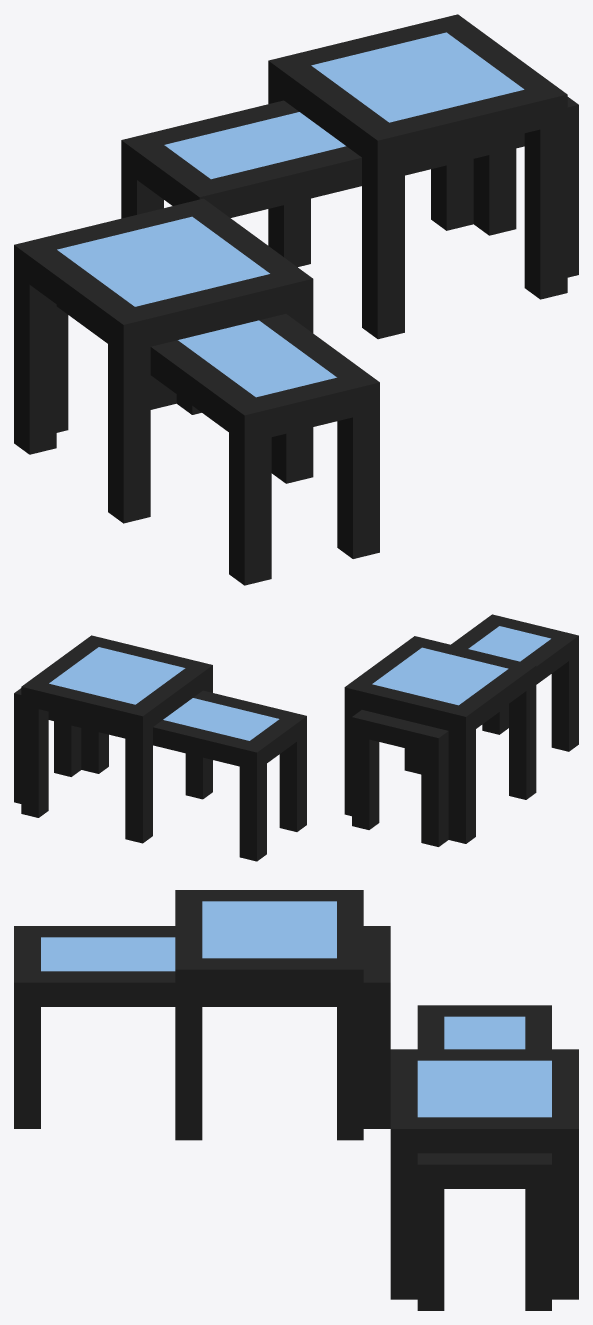
Rendered from 4er-tisch-verl-1-blaues sofa.obj.
3 views of the same model, one above another, from view 1: azimuth 30°, elevation 25°; view 2: azimuth 150°, elevation 25°; view 3: azimuth 270°, elevation 25° (orthographic). The views are drawn at different scales.
Visible parts, largest first — view 1: blaues sofa; view 2: blaues sofa; view 3: blaues sofa.
Part boxes in pixels (x1=…): blaues sofa: x1=14, y1=14, x2=578, y2=585; blaues sofa: x1=14, y1=614, x2=578, y2=861; blaues sofa: x1=14, y1=890, x2=578, y2=1310.
Size of the model in its own units: 2.2 by 0.7 by 2.1.
Materials: 1 (1 with a texture image).
